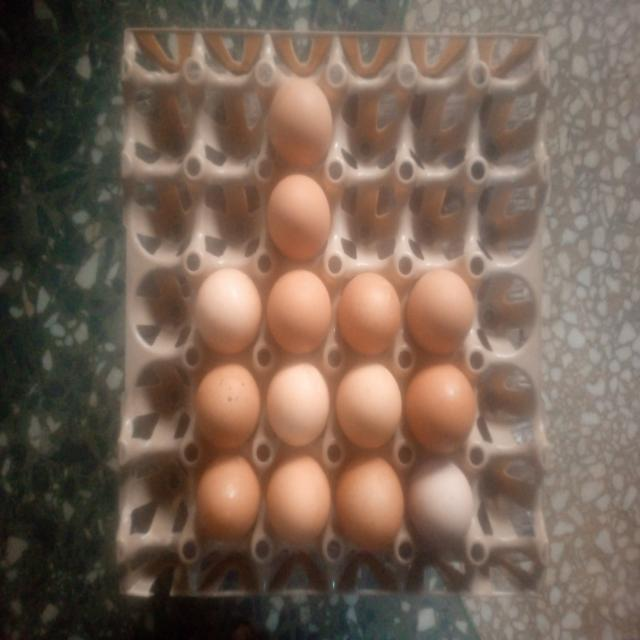Eggs: (260, 171, 338, 264), (190, 254, 262, 354), (262, 72, 338, 163), (410, 268, 478, 361), (267, 458, 334, 548), (406, 369, 477, 453), (193, 364, 262, 450), (339, 461, 407, 548), (412, 462, 477, 553), (339, 366, 404, 456), (337, 270, 405, 356), (195, 460, 261, 546), (266, 267, 331, 354), (268, 366, 332, 450)
